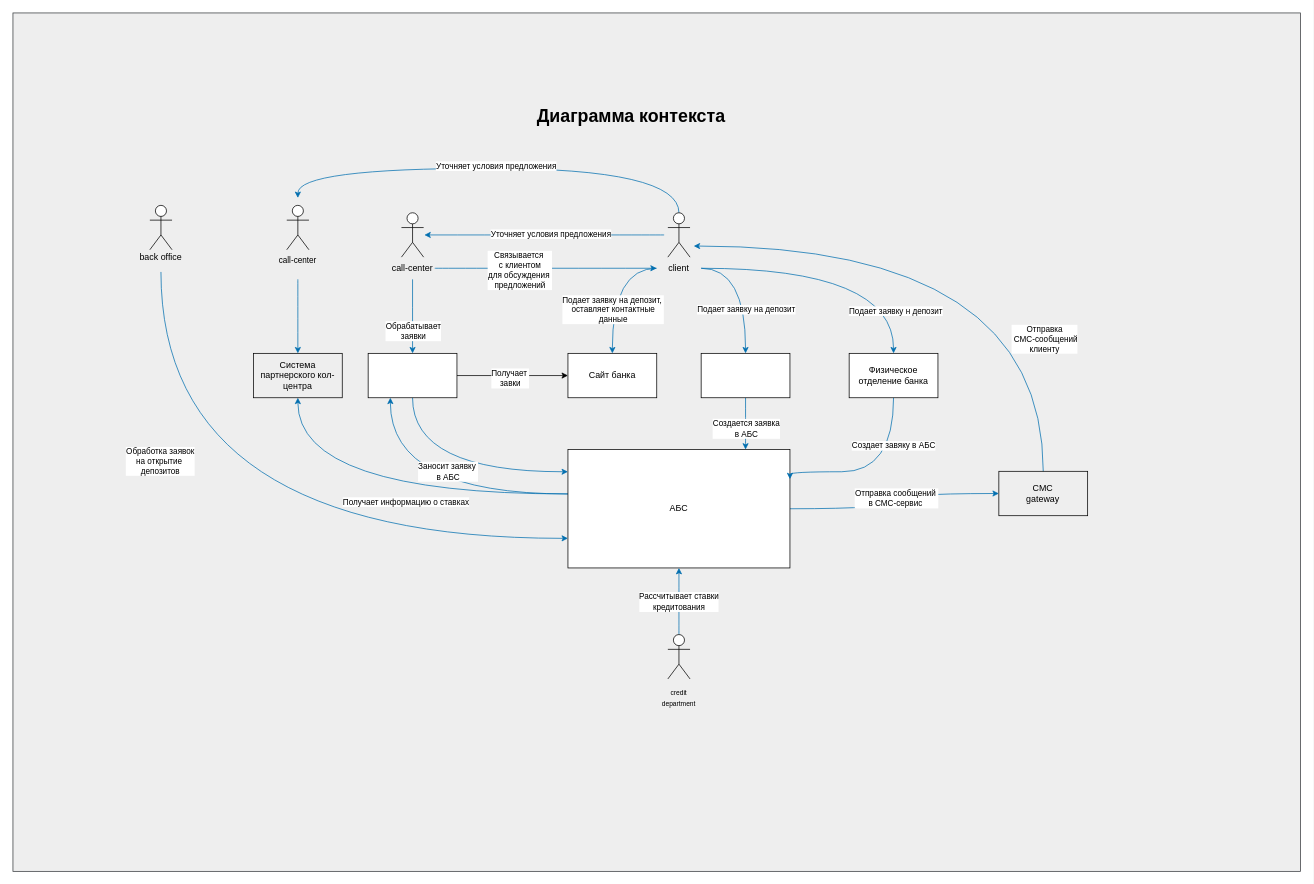
This 1314x884 diagram has some shape labels left out. The centre of each missing label's shape, as x and y in pixels:
Интернет банк: point 745,375
Система кол-центра: point 412,375
